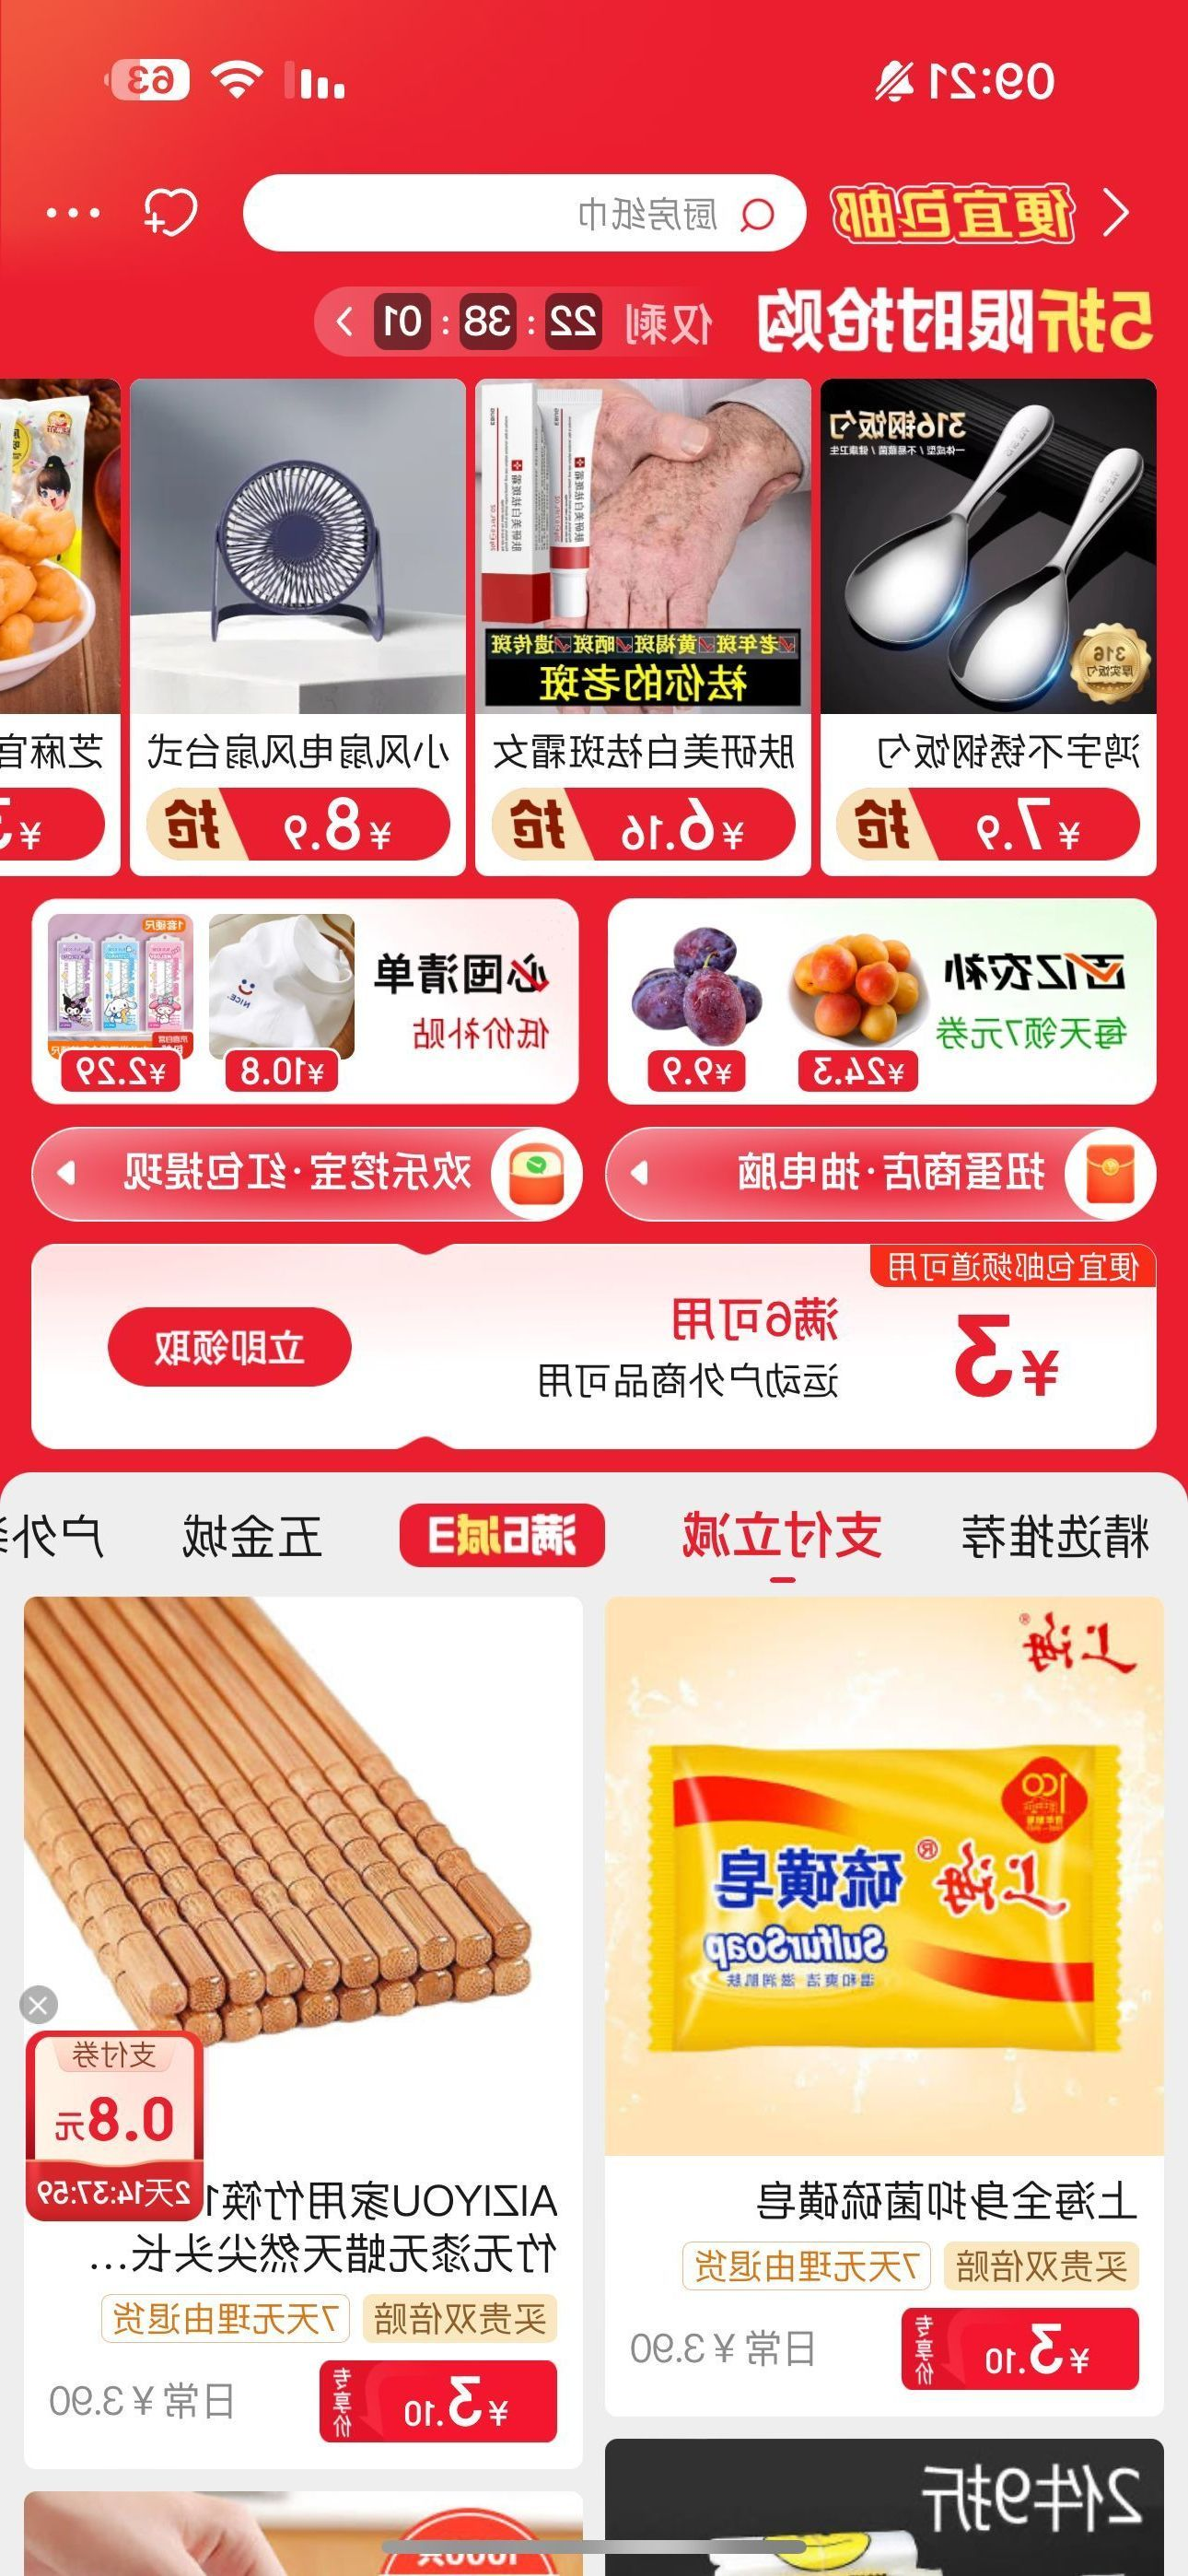banner: (13, 1226, 1181, 1467)
item: (16, 1579, 598, 2481), (600, 1567, 1178, 2440), (10, 148, 1185, 266)
seckill: (5, 352, 1181, 1216)
